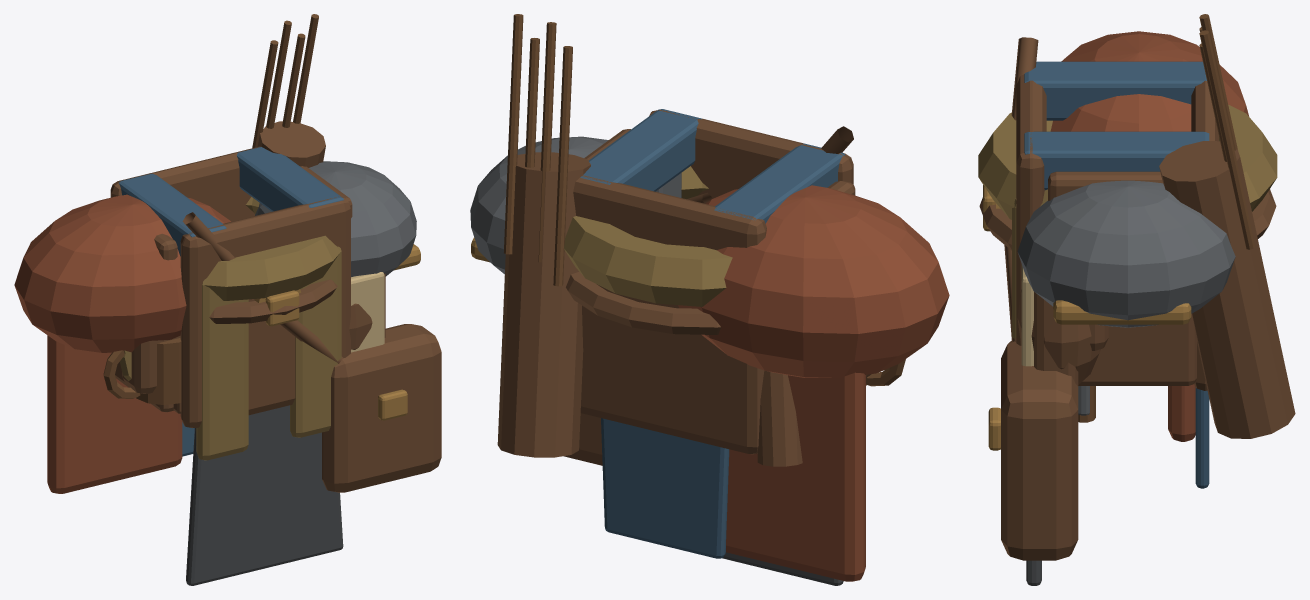
File: npc_kit_embervale.glb
3 renders of one model, left to right at view 1: azimuth 30°, elevation 25°; view 2: azimuth 150°, elevation 25°; view 3: azimuth 270°, elevation 25°, orthographic. The views are drawn at different scales.
Visible parts, largest first — view 1: ShoulderCape, WorkApron, OuterVest, MerchantMantle, Satchel, GuildTabardBlue, Pauldron, Quiver, BeltPouches, Mug, Ledger, CoinPouch; view 2: ShoulderCape, OuterVest, Quiver, GuildTabardBlue, MerchantMantle, BeltPouches, Pauldron, ScrollCase, Satchel, WorkApron; view 3: Pauldron, Quiver, Satchel, GuildTabardBlue, OuterVest, ShoulderCape, MerchantMantle, Ledger, CoinPouch, BeltPouches.
Part boxes in pixels (x1,y1,x2,y2): ShoulderCape: [14, 194, 230, 493]; WorkApron: [173, 403, 343, 585]; OuterVest: [110, 146, 352, 428]; MerchantMantle: [196, 197, 341, 460]; Satchel: [182, 212, 441, 492]; GuildTabardBlue: [119, 147, 343, 456]; Pauldron: [255, 161, 420, 276]; Quiver: [252, 14, 325, 167]; BeltPouches: [122, 279, 337, 393]; Mug: [103, 338, 181, 404]; Ledger: [351, 272, 385, 352]; CoinPouch: [349, 303, 372, 349]; ShoulderCape: [678, 185, 949, 581]; OuterVest: [573, 109, 855, 454]; Quiver: [497, 14, 590, 457]; GuildTabardBlue: [580, 109, 845, 558]; MerchantMantle: [564, 166, 732, 306]; BeltPouches: [566, 271, 871, 377]; Pauldron: [470, 136, 608, 274]; ScrollCase: [757, 370, 802, 466]; Satchel: [564, 126, 853, 465]; WorkApron: [722, 552, 843, 585]; Pauldron: [1017, 180, 1235, 327]; Quiver: [1159, 14, 1295, 438]; Satchel: [988, 37, 1078, 560]; GuildTabardBlue: [996, 61, 1209, 488]; OuterVest: [1016, 74, 1218, 390]; ShoulderCape: [1050, 31, 1249, 441]; MerchantMantle: [978, 104, 1277, 338]; Ledger: [1021, 264, 1078, 386]; CoinPouch: [1017, 289, 1100, 384]; BeltPouches: [979, 185, 1276, 350].
Bounding box in the file's own units: 0.97 × 1.16 × 0.5744.
